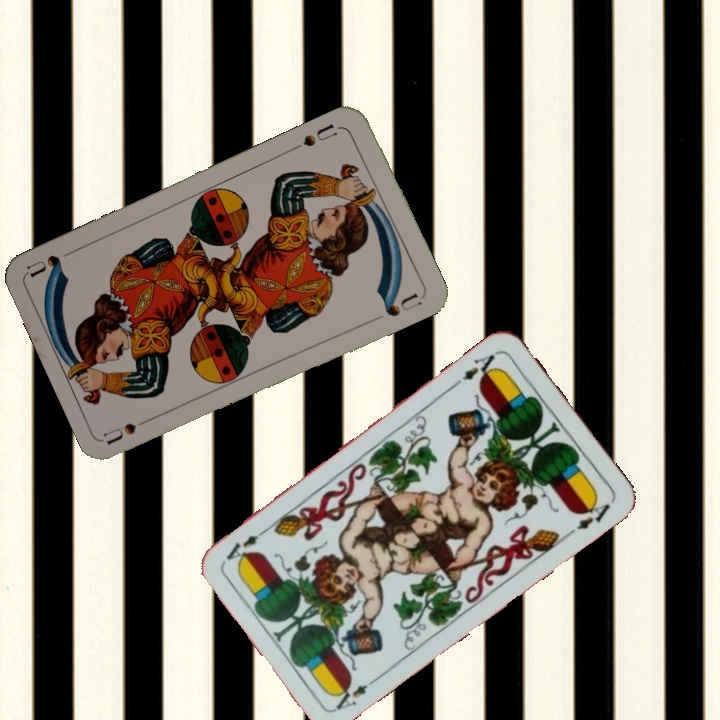EA: (451, 346, 502, 389), (329, 672, 382, 713)
SU: (101, 411, 159, 446), (289, 119, 340, 153)
